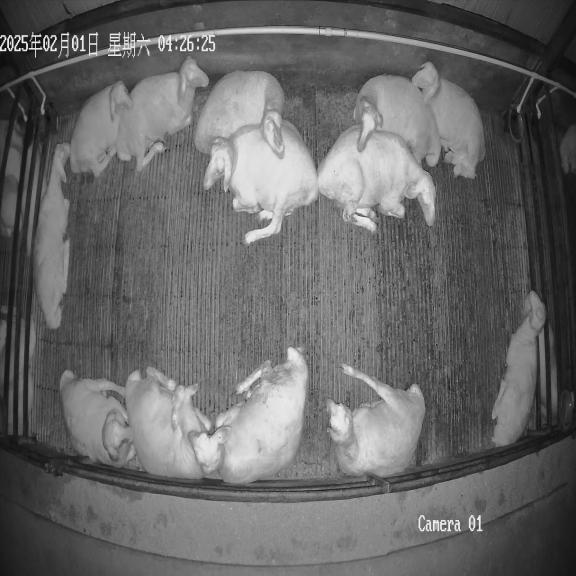lying: (189, 347, 308, 484), (203, 115, 319, 244), (317, 125, 436, 232), (327, 364, 425, 478), (115, 56, 209, 172), (125, 367, 212, 479), (491, 291, 546, 446), (412, 62, 485, 178), (354, 75, 441, 167), (194, 71, 285, 153), (59, 370, 135, 467), (34, 142, 70, 329), (70, 81, 134, 177)
